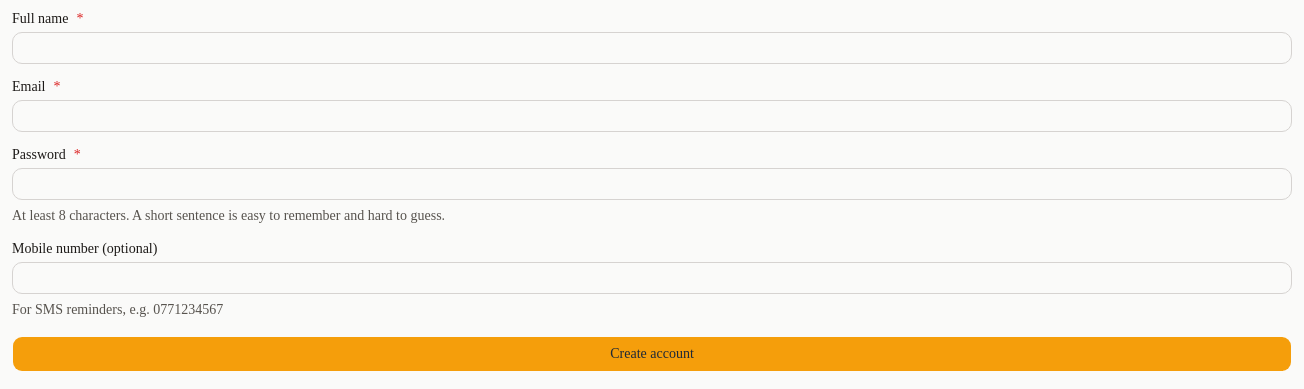
RegisterForm › asks the user to check their email after registering
Type "Nimali Perera" into the field labelled "Full name *" at {"x": 652, "y": 48}, box [12,32,1292,64]
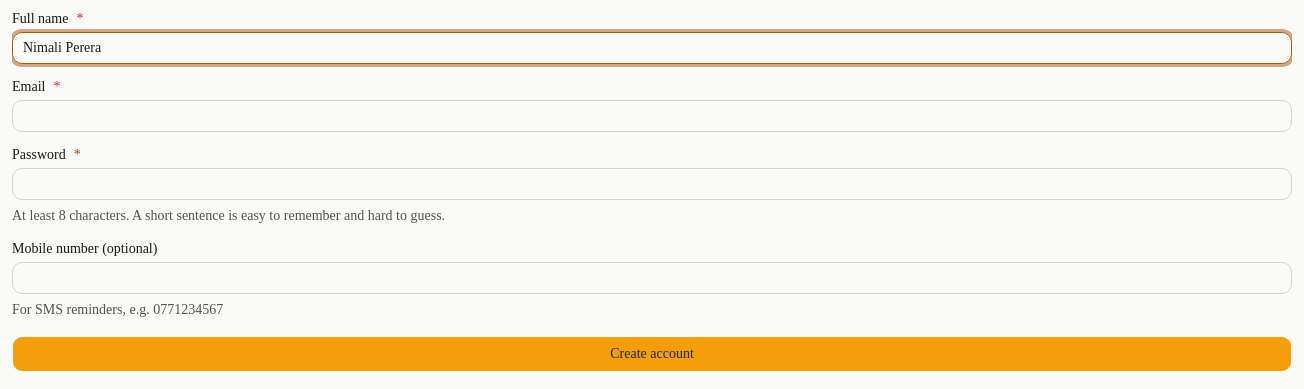
Type "nimali@mail.lk" into the field labelled "Email *" at {"x": 652, "y": 116}, box [12,100,1292,132]
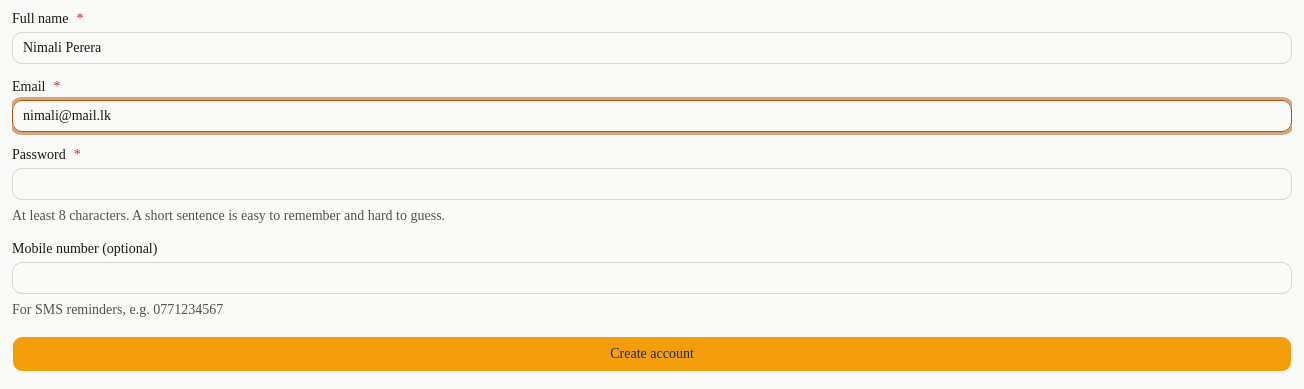
Type "reading-is-fun" into the password field labelled "Password *" at {"x": 652, "y": 184}, box [12,168,1292,200]
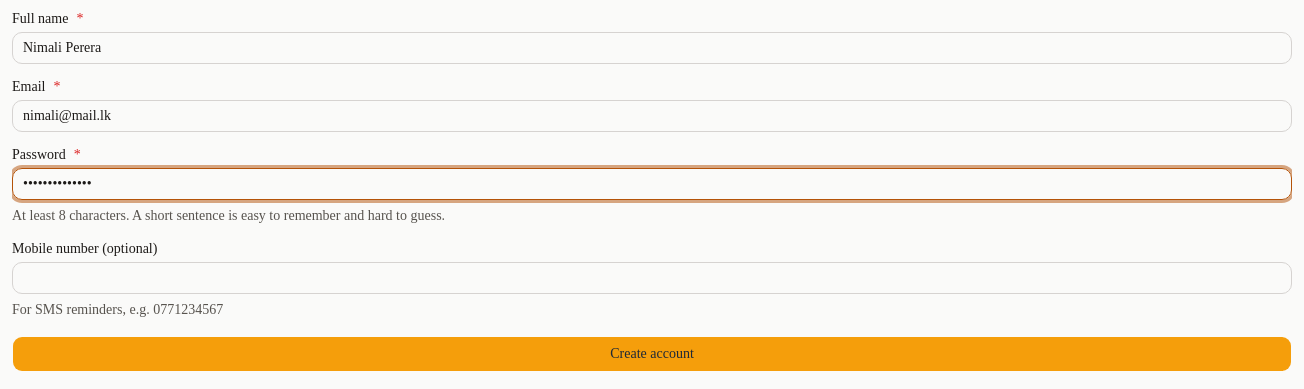
Type "077 123 4567" into the field labelled "Mobile number (optional)" at {"x": 652, "y": 278}, box [12,262,1292,294]
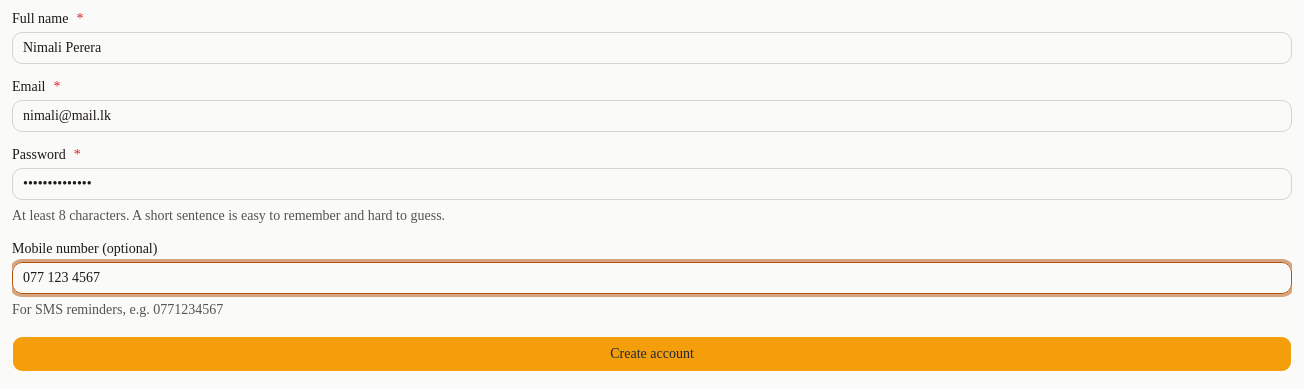
Click the button "Create account" at {"x": 652, "y": 354}, box [12,336,1292,372]
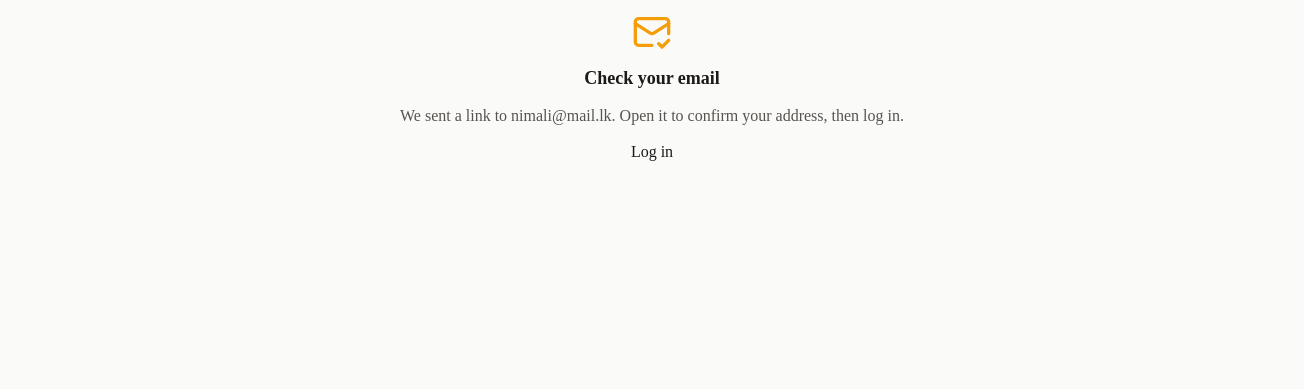
Expected: the heading "Check your email" is shown, [584,64,720,92]
